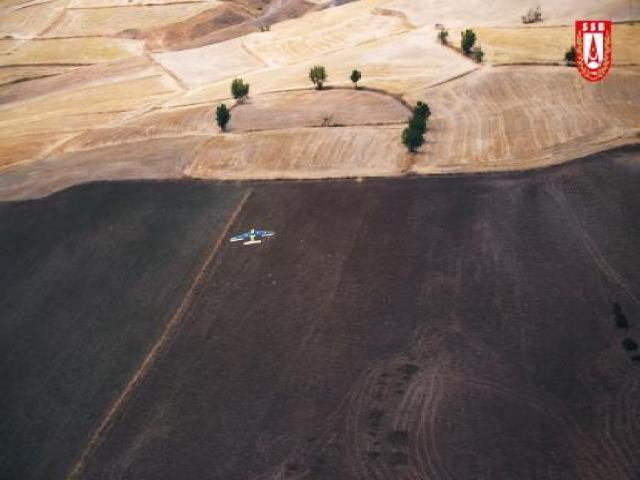uav: (226, 224, 277, 248)
